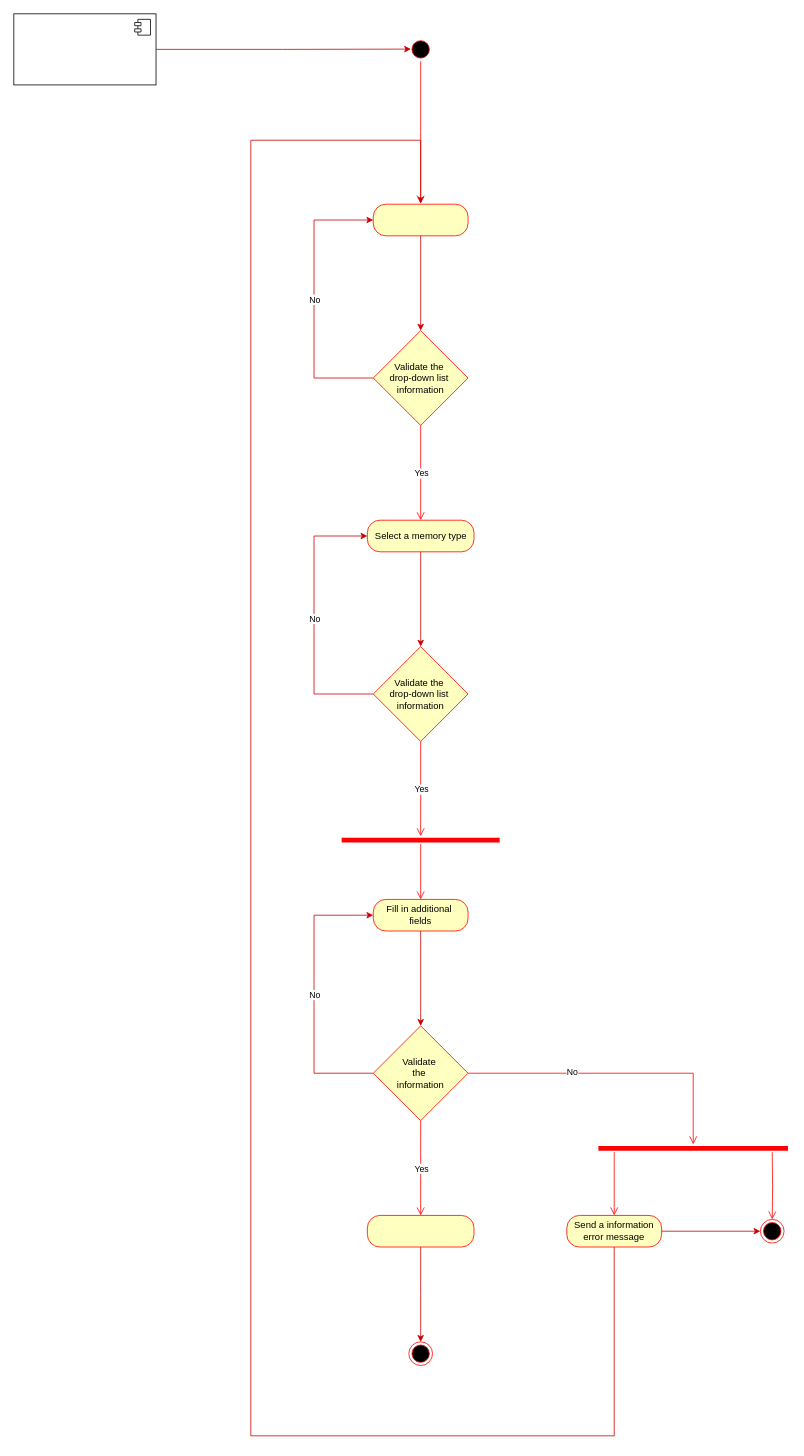
The diagram is 804 pixels wide and 1456 high, and some of its shapes have lost their labels. Here are the shapes that lost their labels. From the top down, the box of each, then its label:
(13, 13, 156, 85): Modify a hardware item specification (processor)
(372, 203, 468, 236): Select a socket
(367, 1215, 474, 1247): Allow modify the product specifications
